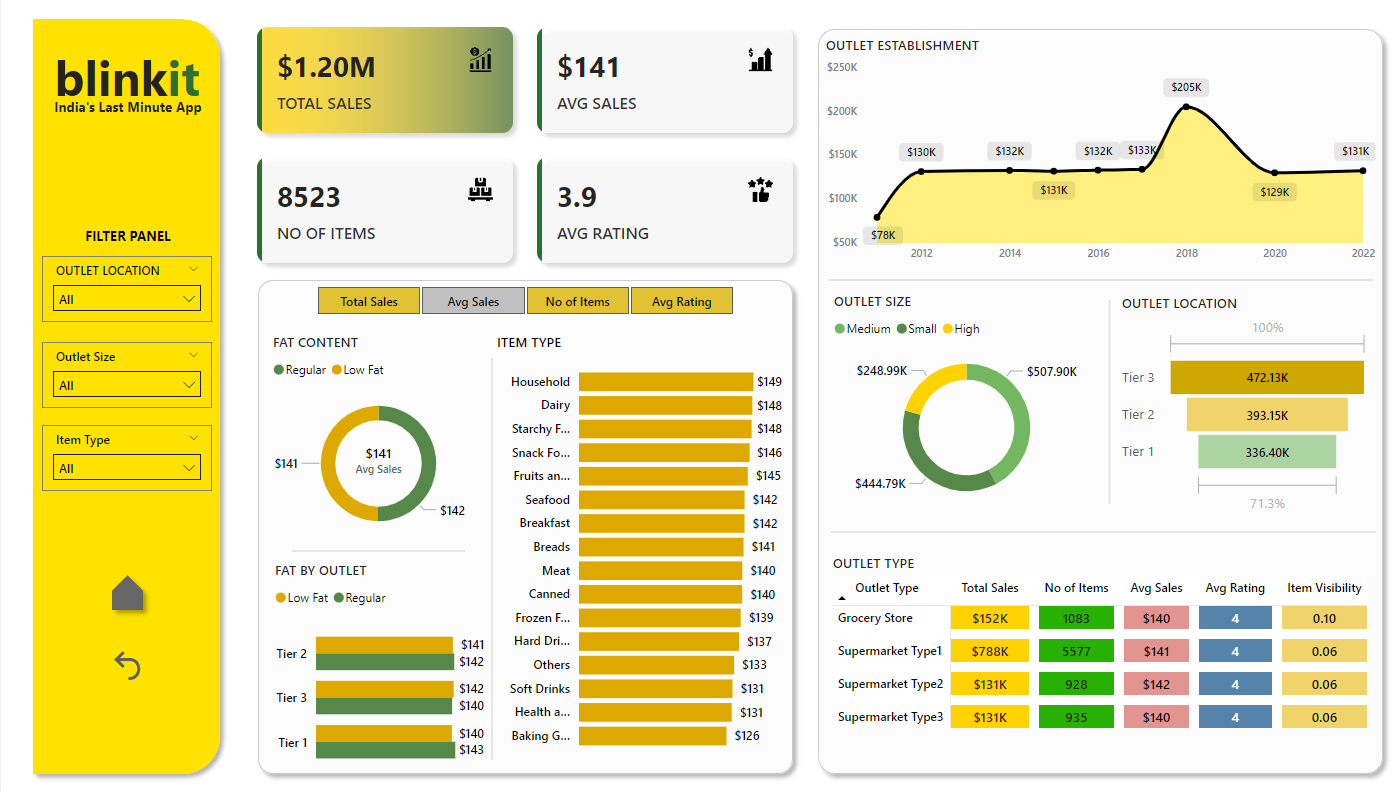

The dashboard page shown, as its layout file describes it:
{"tool":"powerbi","page":{"name":"Page 1","canvas":[1400,800],"ordinal":0},"visuals":[{"type":"shape","box":[22.5,15,205.6,772.9],"z":0},{"type":"textbox","box":[36,43.5,180.1,90.1],"z":1000},{"type":"textbox","box":[36,97.6,181.6,36],"z":2000},{"type":"cardVisual","fields":{"Data":["BlinkIT Grocery Data.Total Sales","BlinkIT Grocery Data.Avg Sales","BlinkIT Grocery Data.No of Items","BlinkIT Grocery Data.Avg Rating"]},"box":[238.6,15,570.3,270.2],"z":3000},{"type":"shape","box":[247.6,276.2,553.8,511.8],"z":4000},{"type":"donutChart","title":"FAT CONTENT","fields":{"Y":["BlinkIT Grocery Data.Avg Sales"],"Category":["BlinkIT Grocery Data.Item Fat Content"]},"box":[267.2,337.7,220.6,216.1],"z":5000},{"type":"slicer","fields":{"Values":["Metrics.Metrics"]},"box":[291.2,285.2,465.3,40.5],"z":6000},{"type":"cardVisual","fields":{"Data":["BlinkIT Grocery Data.Avg Sales"]},"box":[330.2,432.2,94.6,61.5],"z":7000},{"type":"clusteredBarChart","title":"FAT BY OUTLET","fields":{"Y":["BlinkIT Grocery Data.Avg Sales"],"Category":["BlinkIT Grocery Data.Outlet Location Type"],"Series":["BlinkIT Grocery Data.Item Fat Content"]},"box":[268.7,565.8,219.1,222.1],"z":8000},{"type":"shape","box":[291.2,546.3,172.6,19.5],"z":9000},{"type":"shape","box":[487.8,363.2,6,402.2],"z":10000},{"type":"barChart","title":"ITEM TYPE","fields":{"Y":["BlinkIT Grocery Data.Avg Sales"],"Category":["BlinkIT Grocery Data.Item Type"]},"box":[490.8,337.7,295.7,427.7],"z":11000},{"type":"shape","box":[808.5,24.5,582.1,763.5],"z":12000},{"type":"lineChart","title":"OUTLET ESTABLISHMENT","fields":{"Y":["BlinkIT Grocery Data.Total Sales"],"Category":["BlinkIT Grocery Data.Outlet Establishment Year"]},"box":[820,40.9,558.6,235.4],"z":13000},{"type":"shape","box":[826.9,275.3,544.6,20],"z":14000},{"type":"donutChart","title":"OUTLET SIZE","fields":{"Y":["BlinkIT Grocery Data.Total Sales"],"Category":["BlinkIT Grocery Data.Outlet Size"]},"box":[827.9,297.3,275.3,225.4],"z":15000},{"type":"shape","box":[1102.2,305.2,13,203.5],"z":16000},{"type":"funnel","title":"OUTLET LOCATION","fields":{"Y":["Sum(BlinkIT Grocery Data.Sales)"],"Category":["BlinkIT Grocery Data.Outlet Location Type"]},"box":[1116.2,299.3,256.4,223.4],"z":17000},{"type":"shape","box":[829.9,526.7,544.6,20],"z":18000},{"type":"pivotTable","title":"OUTLET TYPE","fields":{"Rows":["BlinkIT Grocery Data.Outlet Type"],"Values":["BlinkIT Grocery Data.Total Sales","BlinkIT Grocery Data.No of Items","BlinkIT Grocery Data.Avg Sales","BlinkIT Grocery Data.Avg Rating","Avg(BlinkIT Grocery Data.Item Visibility)"]},"box":[826.9,538.7,544.6,234.4],"z":19000},{"type":"slicer","fields":{"Values":["BlinkIT Grocery Data.Outlet Location Type"]},"box":[41,261,170,66],"z":20000},{"type":"slicer","fields":{"Values":["BlinkIT Grocery Data.Outlet Size"]},"box":[41,347,170,66],"z":21000},{"type":"slicer","fields":{"Values":["BlinkIT Grocery Data.Item Type"]},"box":[41,430,170,66],"z":22000},{"type":"textbox","box":[68,227,118,34],"z":23000},{"type":"actionButton","box":[98,640,57,60],"z":24000},{"type":"shape","box":[102,571,49,53],"z":25000}]}

Visuals, with their boxes in screenshot pixels (x1, y1, x2, y2), scaled from the page's 1400x800 canvas onto the 1397x792 screenshot:
shape: box(22, 15, 228, 780)
textbox: box(36, 43, 216, 132)
textbox: box(36, 97, 217, 132)
cardVisual - BlinkIT Grocery Data.Total Sales x BlinkIT Grocery Data.Avg Sales: box(238, 15, 807, 282)
shape: box(247, 273, 800, 780)
"FAT CONTENT" donutChart: box(267, 334, 487, 548)
slicer - Metrics.Metrics: box(291, 282, 755, 322)
cardVisual - BlinkIT Grocery Data.Avg Sales: box(329, 428, 424, 489)
"FAT BY OUTLET" clusteredBarChart: box(268, 560, 487, 780)
shape: box(291, 541, 463, 560)
shape: box(487, 360, 493, 758)
"ITEM TYPE" barChart: box(490, 334, 785, 758)
shape: box(807, 24, 1388, 780)
"OUTLET ESTABLISHMENT" lineChart: box(818, 40, 1376, 274)
shape: box(825, 273, 1369, 292)
"OUTLET SIZE" donutChart: box(826, 294, 1101, 517)
shape: box(1100, 302, 1113, 504)
"OUTLET LOCATION" funnel: box(1114, 296, 1370, 517)
shape: box(828, 521, 1372, 541)
"OUTLET TYPE" pivotTable: box(825, 533, 1369, 765)
slicer - BlinkIT Grocery Data.Outlet Location Type: box(41, 258, 211, 324)
slicer - BlinkIT Grocery Data.Outlet Size: box(41, 344, 211, 409)
slicer - BlinkIT Grocery Data.Item Type: box(41, 426, 211, 491)
textbox: box(68, 225, 186, 258)
actionButton: box(98, 634, 155, 693)
shape: box(102, 565, 151, 618)
